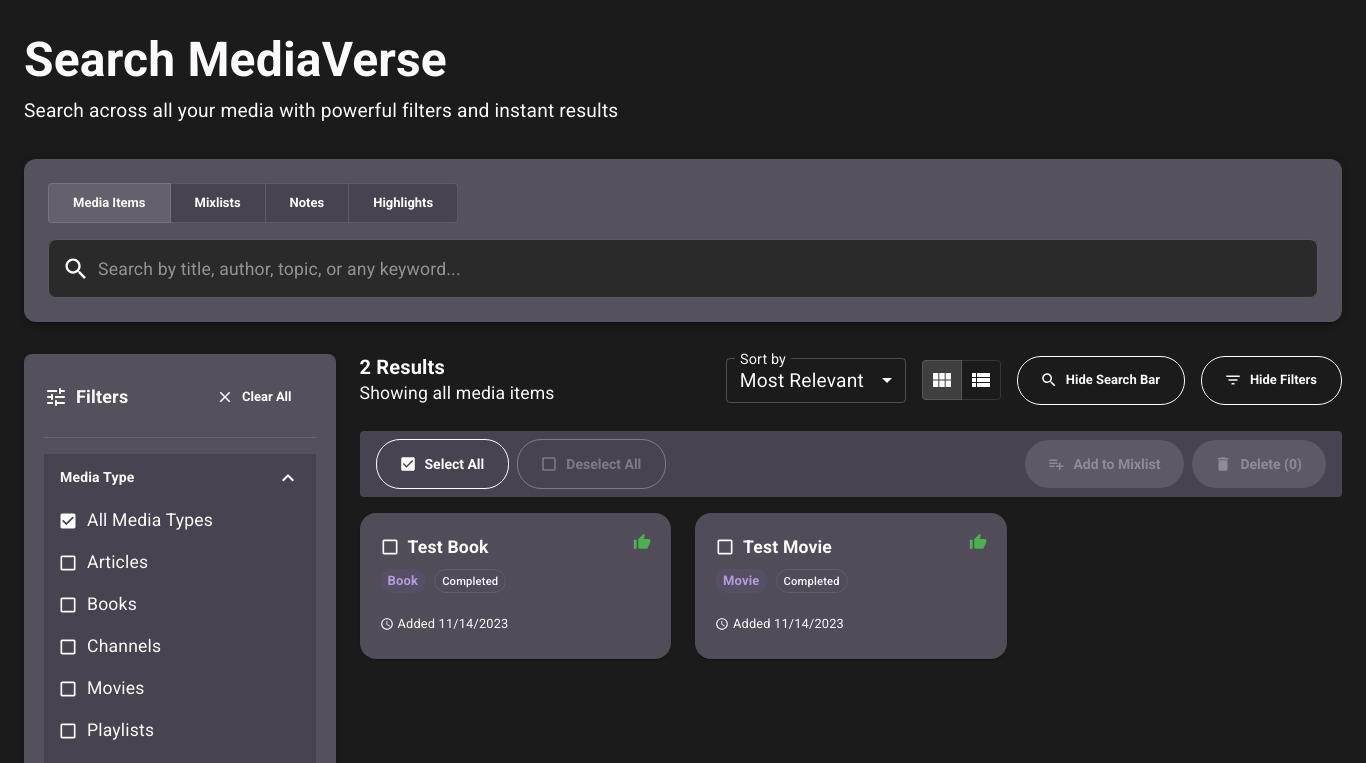
Test: Search bulk actions › bulk delete sends media ids to the media bulk endpoint
Expected: the heading "Test Book" is shown, [408,533,489,561]
Click the button "Select All".
click(442, 464)  # box [376,439,509,489]
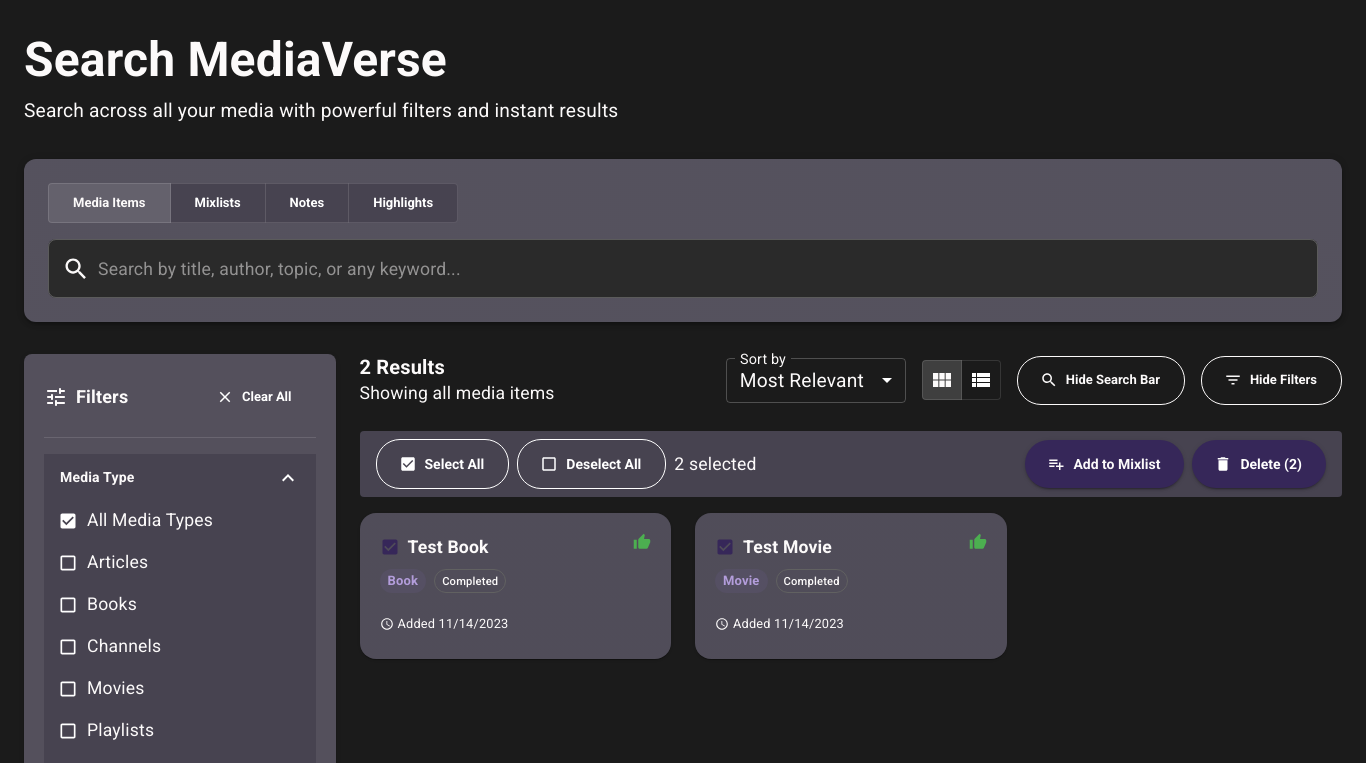
Click the button "Delete (2)".
click(1259, 464)  # box [1192,440,1326,488]
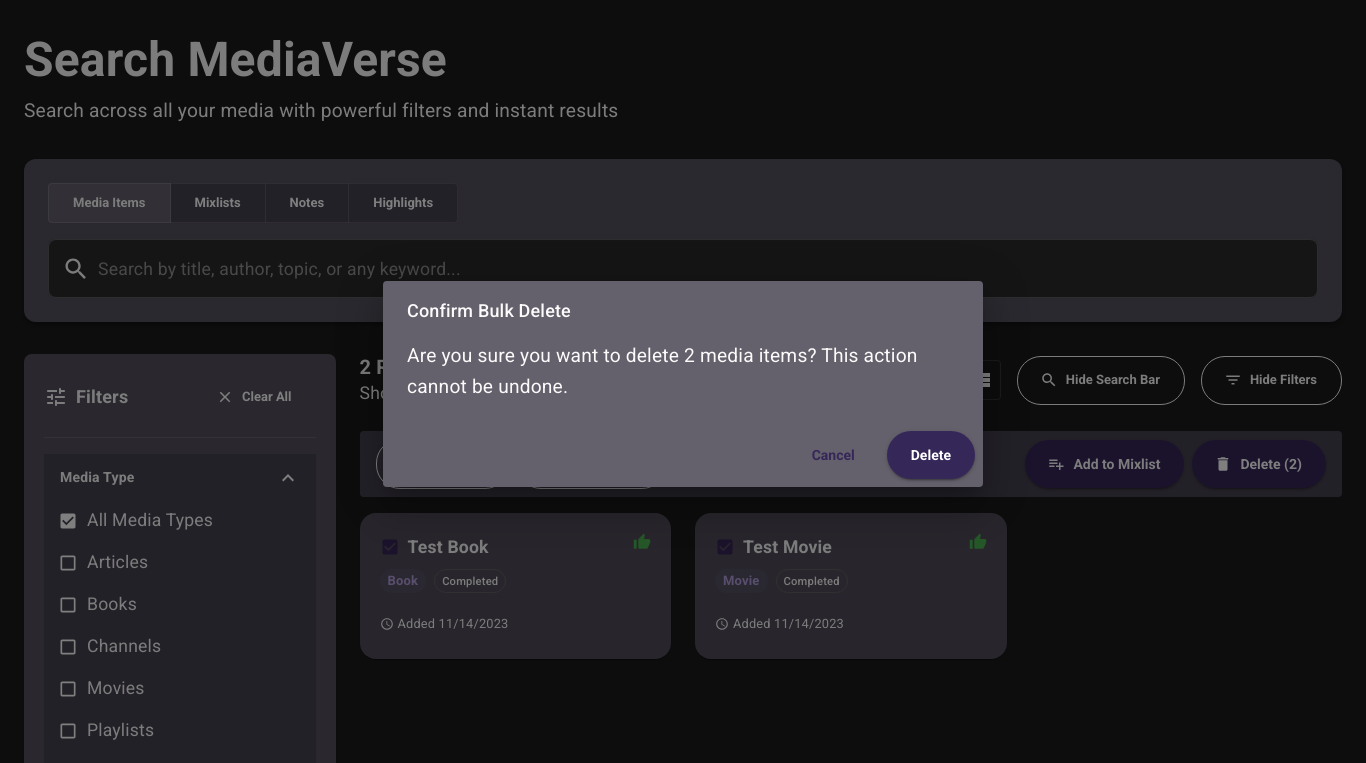
Now the text "2 media items" is shown, box [684,344,807,367]
Click the button "Delete".
click(931, 455)  # box [887,431,975,479]
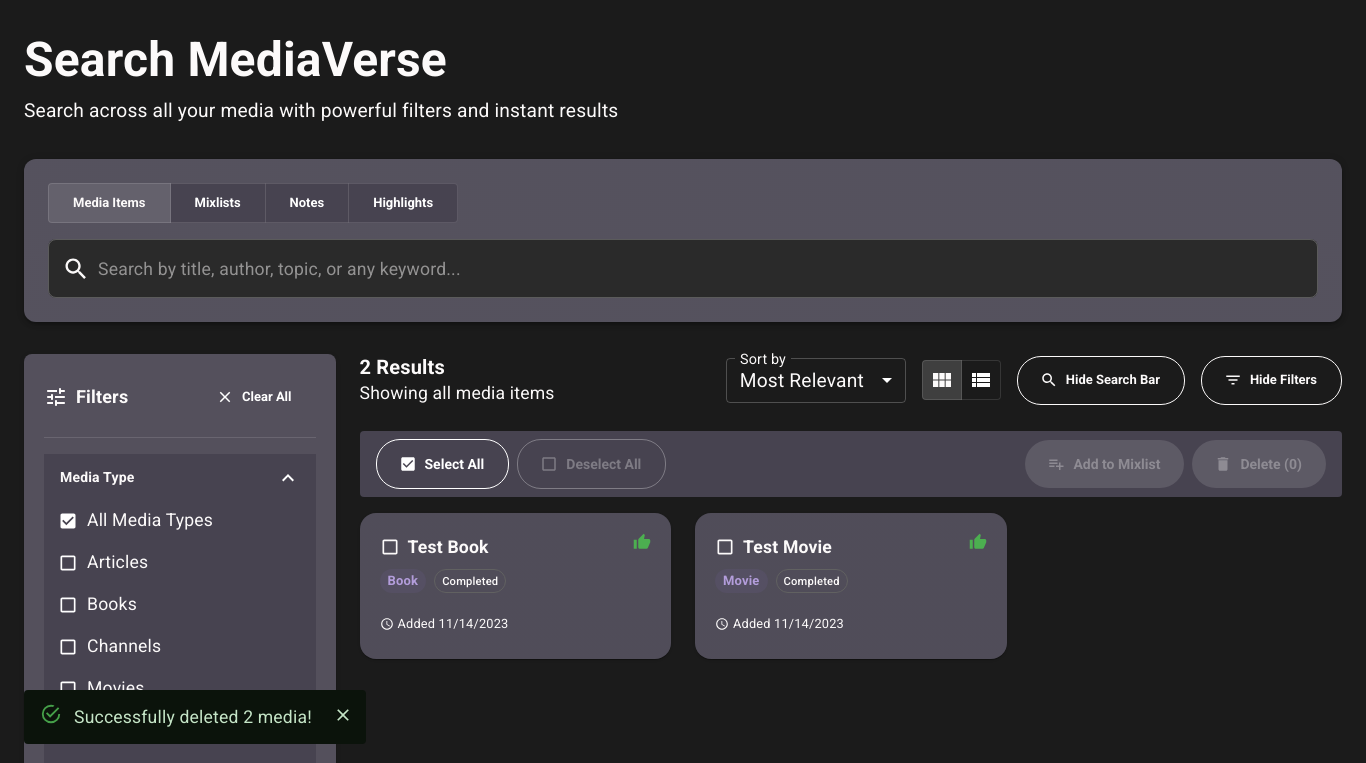
Now the text "Successfully deleted 2 media!" is shown, box [74,707,312,727]
